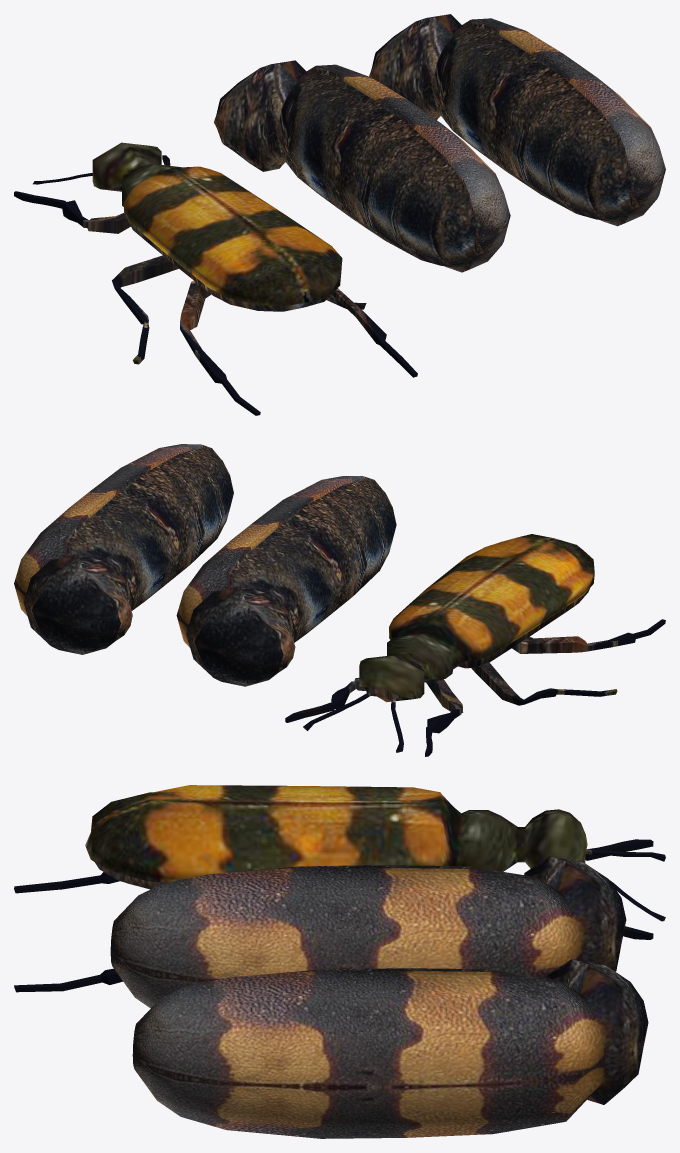
The model's file is banmao.FBX.
3 renders of one model, top to bottom at view 1: azimuth 30°, elevation 25°; view 2: azimuth 150°, elevation 25°; view 3: azimuth 270°, elevation 25°, orthographic. The views are drawn at different scales.
Visible parts, largest first — view 1: Cylinder002, Cylinder001, Box002; view 2: Cylinder001, Cylinder002, Box002; view 3: Cylinder001, Cylinder002, Box002.
Boxes of the visible parts, box(x1,y1,x2,y2) form: Cylinder002: box(214, 60, 510, 272); Cylinder001: box(369, 14, 665, 226); Box002: box(14, 142, 417, 415); Cylinder001: box(14, 444, 233, 654); Cylinder002: box(176, 476, 396, 686); Box002: box(285, 534, 665, 756); Cylinder001: box(132, 959, 648, 1138); Cylinder002: box(110, 856, 626, 1008); Box002: box(14, 785, 665, 992).
Size of the model in its own units: 69.73 by 19.32 by 58.18.
1 material, 1 textured.
